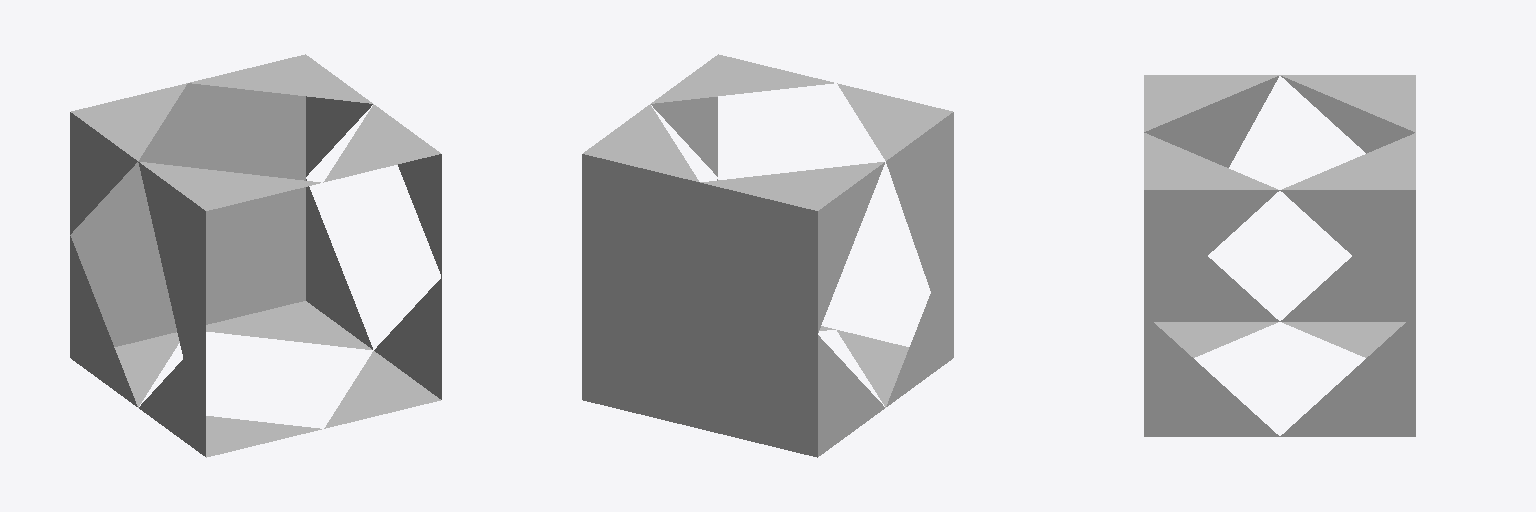
The model's file is central_pod.obj.
3 renders of one model, left to right at view 1: azimuth 30°, elevation 25°; view 2: azimuth 150°, elevation 25°; view 3: azimuth 270°, elevation 25°, orthographic.
Bounding box in the file's own units: 200 × 200 × 200.